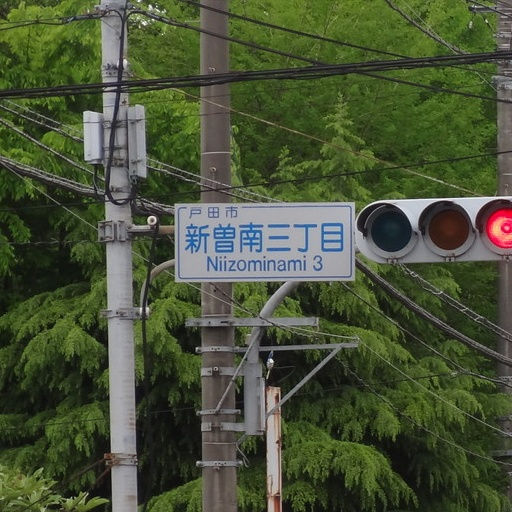Traffic_Signal_Red: (358, 180, 510, 265)
